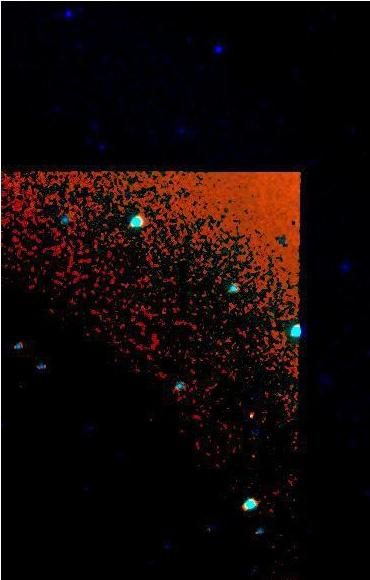star: (236, 397, 266, 427)
